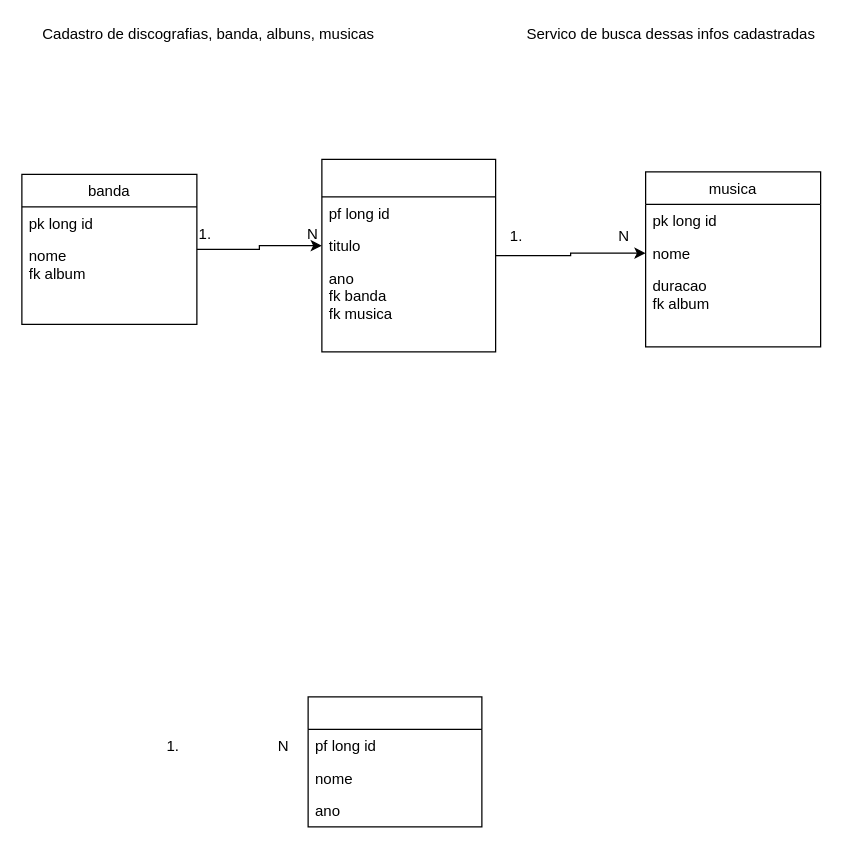
Some shapes in this 849 by 851 pixel diagram are drawn without their labels. The box of each missing label's shape, as (x1, y1, x2, y2) in pixels:
album: (321, 158, 496, 352)
single: (307, 696, 482, 827)
